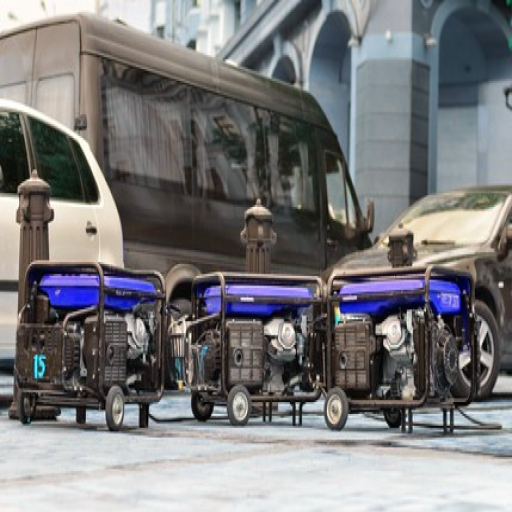portable_generator: (331, 264, 478, 410), (21, 258, 166, 406), (192, 273, 329, 405)
